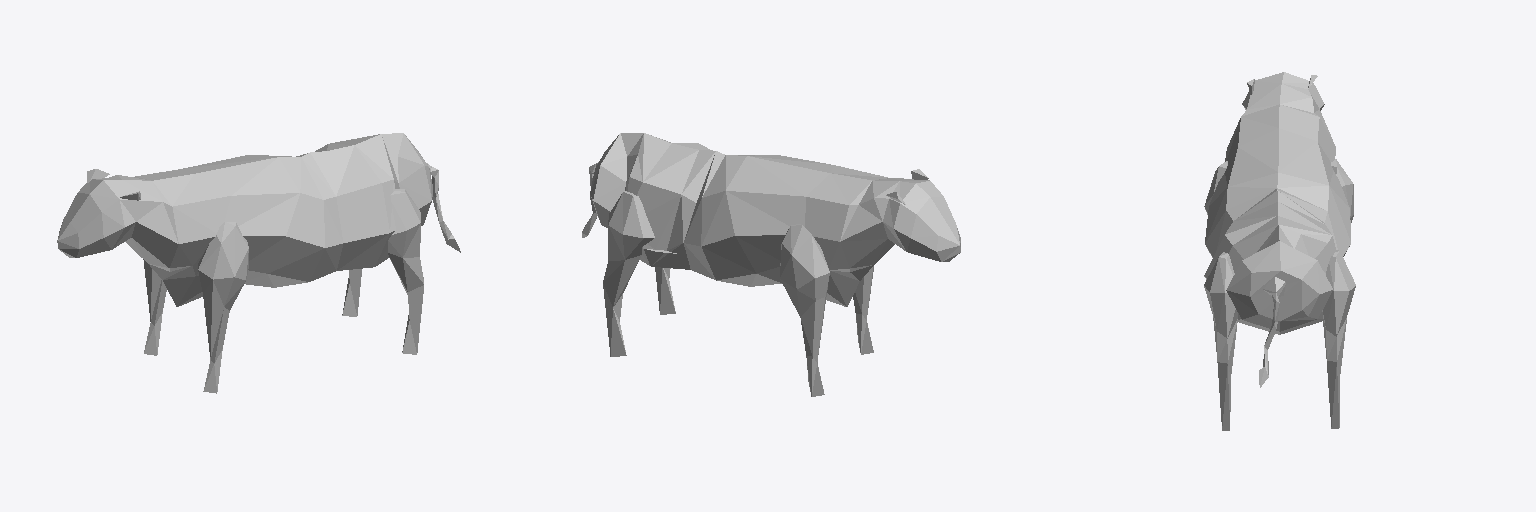
Rendered from cow.obj.
The picture shows the model from 3 angles: view 1: azimuth 30°, elevation 25°; view 2: azimuth 150°, elevation 25°; view 3: azimuth 270°, elevation 25°; orthographic projection.
Visible parts, largest first — view 1: Body_Cylinder; view 2: Body_Cylinder; view 3: Body_Cylinder.
Part boxes in pixels (x1,y1,x2,y2): Body_Cylinder: (57,133,460,393); Body_Cylinder: (582,133,960,396); Body_Cylinder: (1204,72,1355,430).
Size of the model in its own units: 4.53 by 2.46 by 1.53.